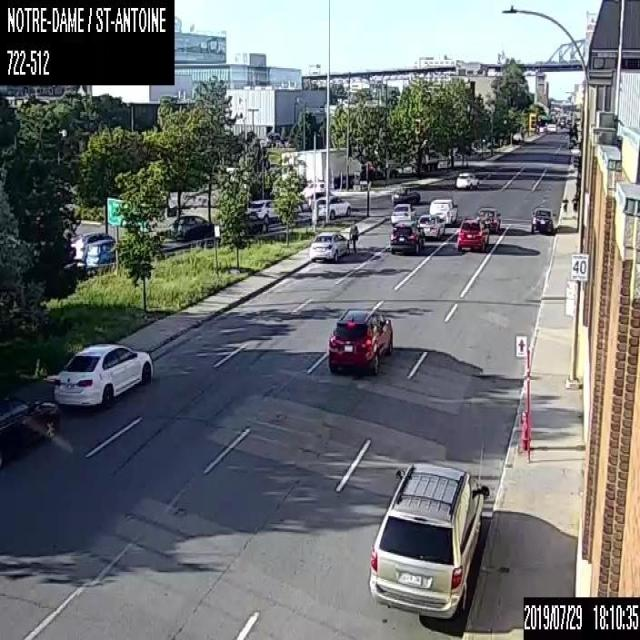pedestrian: (347, 218, 358, 254), (561, 193, 568, 219), (571, 192, 577, 217)
vehicle: (366, 458, 486, 618), (54, 339, 153, 409), (327, 306, 392, 375), (0, 393, 57, 467), (308, 229, 348, 263), (171, 213, 214, 241), (390, 220, 425, 253), (84, 237, 122, 266), (313, 191, 350, 220), (457, 217, 488, 250), (247, 196, 283, 224), (429, 197, 457, 225), (529, 206, 555, 233), (476, 205, 501, 231), (416, 213, 444, 236), (390, 203, 416, 226), (392, 185, 420, 206), (242, 212, 267, 235), (456, 171, 479, 189)
